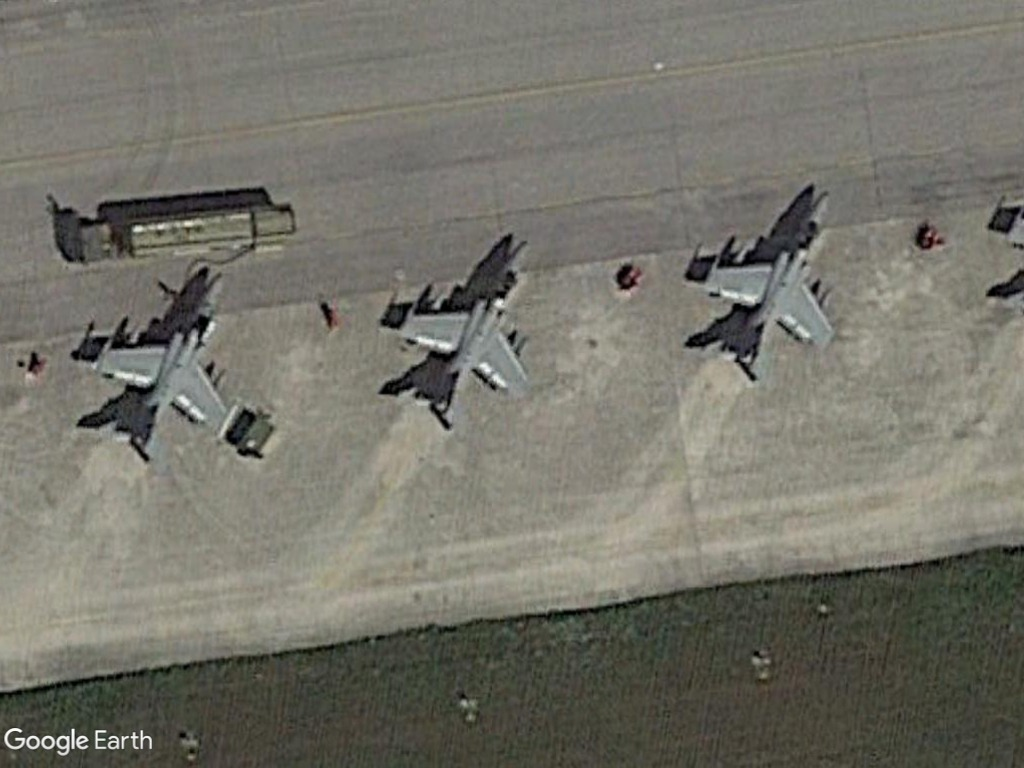airliner: (386, 233, 548, 432), (89, 273, 246, 469), (697, 187, 847, 392)
longvehicle: (62, 200, 304, 270)
